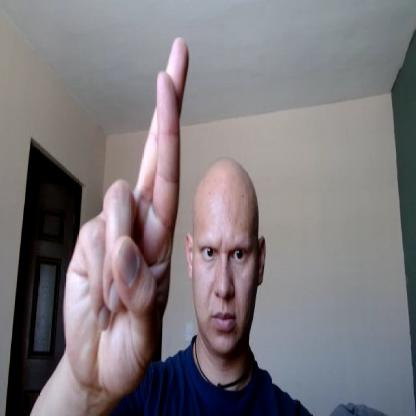R: (63, 33, 192, 392)
